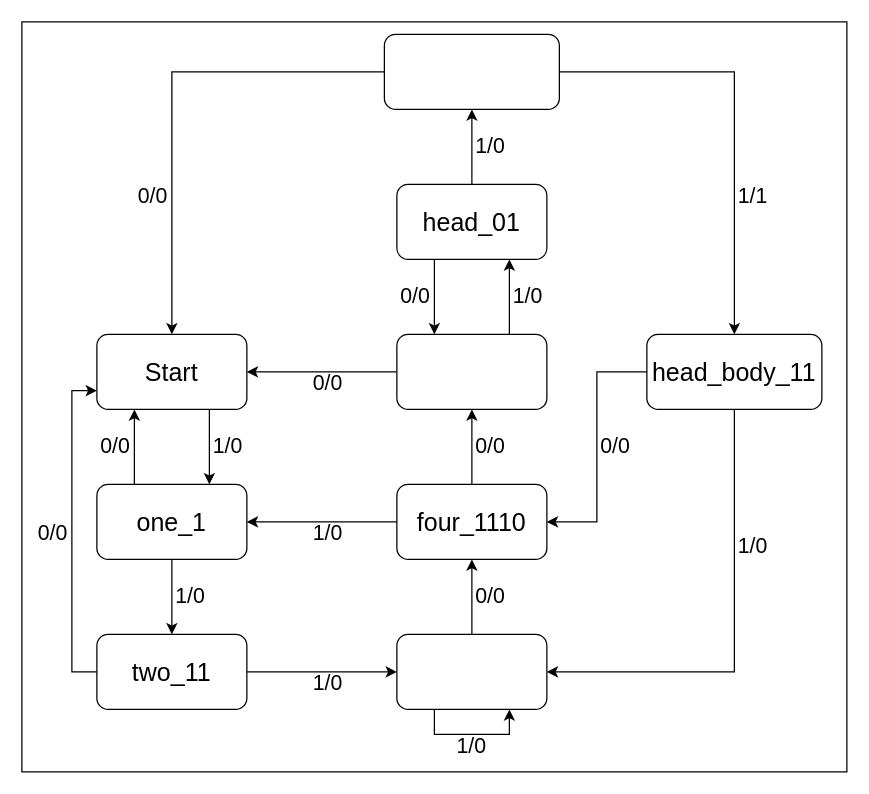
Image size: 869x794. Some labels were removed from this diagram. Here are the shapes that lost their labels. From the top down, the centre of each, then its label:
At (x=471, y=71): "head_body_1".
At (x=471, y=371): "head_0".
At (x=471, y=671): "three_111".
